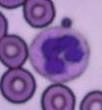N: (30, 27, 90, 82)
